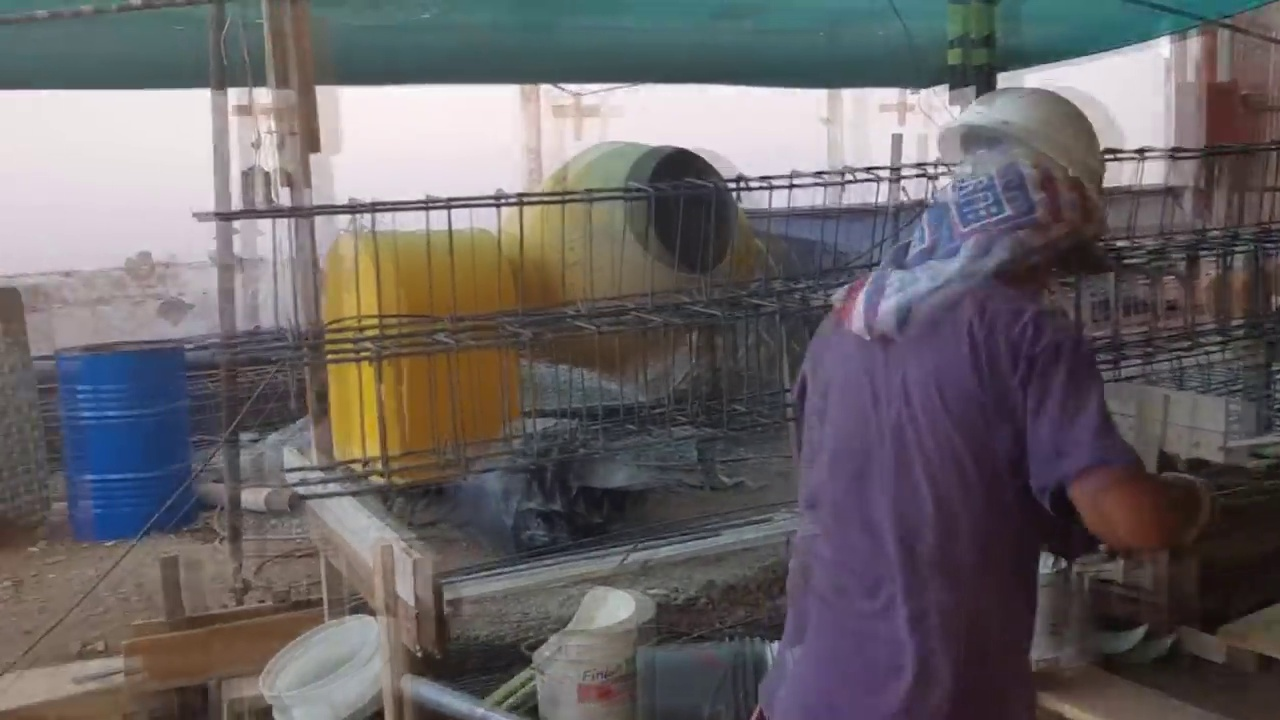helmet-on: (896, 86, 1109, 281)
person: (789, 73, 1214, 720)
